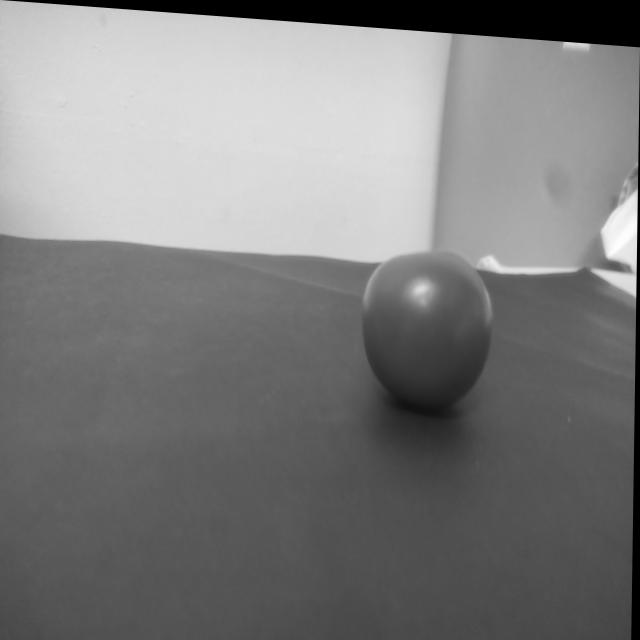kirmizi: (353, 209, 505, 424)
